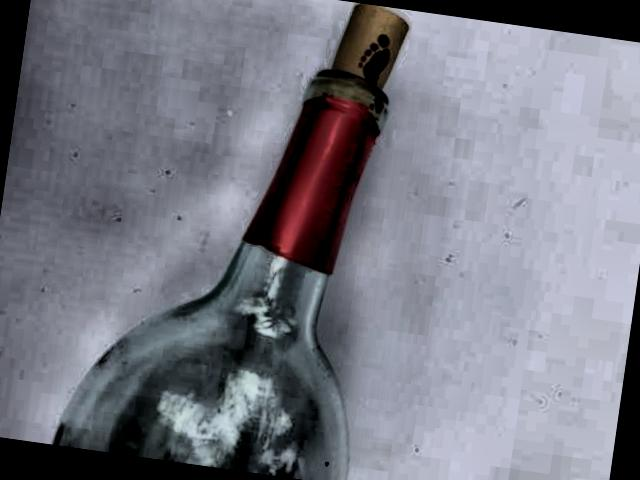Bottles: (45, 0, 462, 480)
